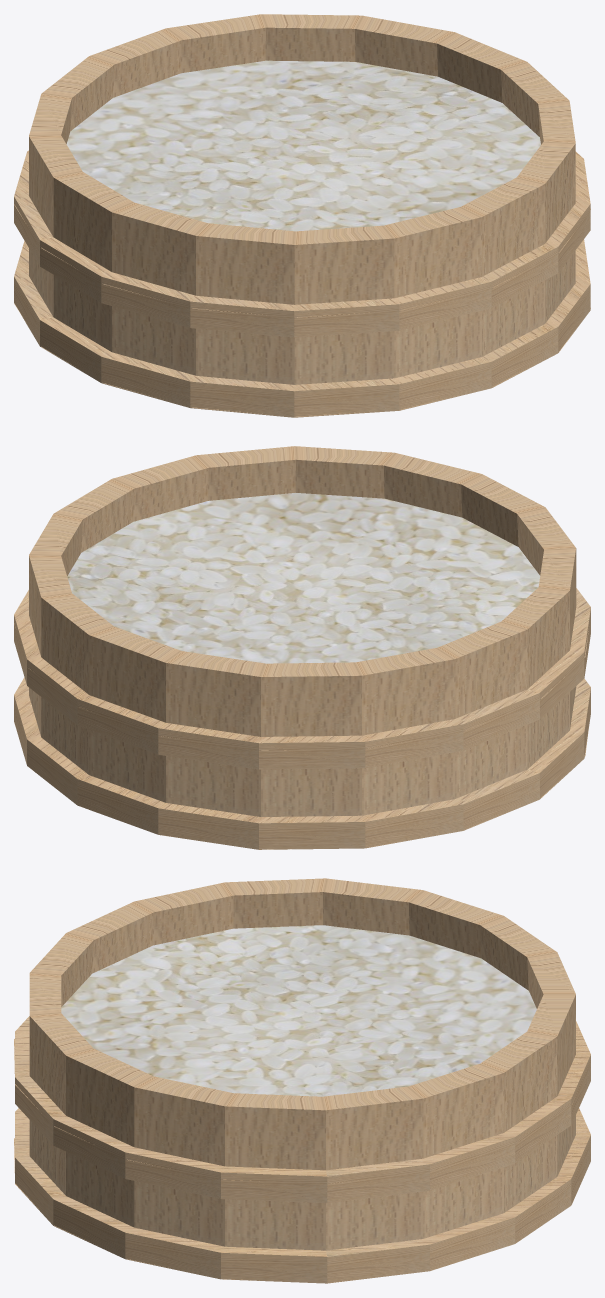
The model's file is groteHangiri.obj.
3 renders of one model, top to bottom at view 1: azimuth 30°, elevation 25°; view 2: azimuth 150°, elevation 25°; view 3: azimuth 270°, elevation 25°, orthographic.
Parts seen in each view (by area): view 1: Cylinder.006, Cylinder.001, Cylinder.005, Cylinder.003; view 2: Cylinder.006, Cylinder.001, Cylinder.005, Cylinder.003; view 3: Cylinder.006, Cylinder.001, Cylinder.005, Cylinder.003.
Part boxes in pixels (left/top/right/bottom): Cylinder.006: left=29, top=14, right=575, bottom=384; Cylinder.001: left=66, top=60, right=540, bottom=231; Cylinder.005: left=14, top=150, right=590, bottom=337; Cylinder.003: left=14, top=239, right=590, bottom=417; Cylinder.006: left=29, top=446, right=576, bottom=816; Cylinder.001: left=67, top=493, right=540, bottom=663; Cylinder.005: left=14, top=588, right=590, bottom=769; Cylinder.003: left=14, top=677, right=590, bottom=849; Cylinder.006: left=29, top=878, right=575, bottom=1250; Cylinder.001: left=61, top=925, right=536, bottom=1096; Cylinder.005: left=15, top=1016, right=590, bottom=1203; Cylinder.003: left=15, top=1108, right=590, bottom=1283.
Bounding box in the file's own units: 0.9769 × 0.3108 × 0.9735.
3 materials, 3 textured.
